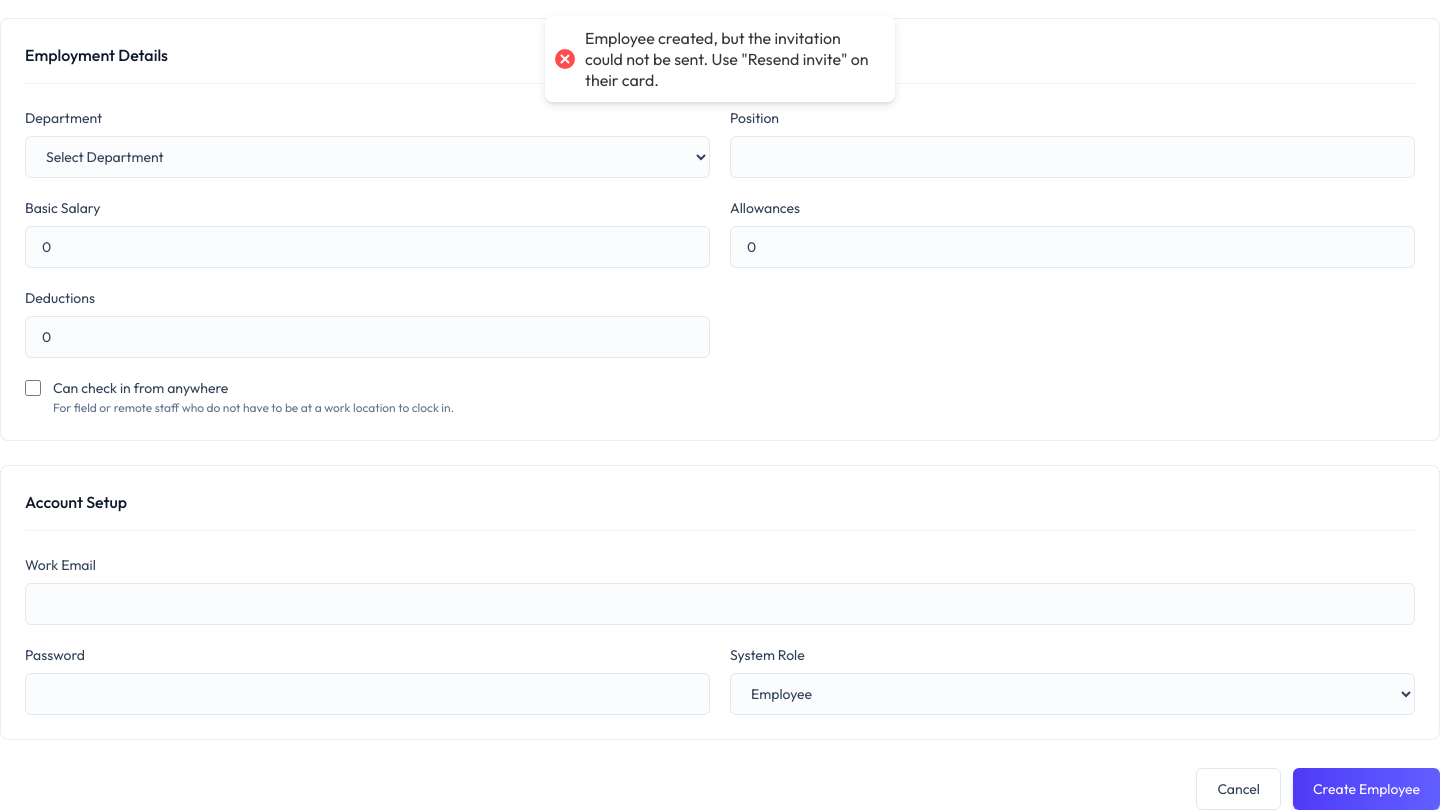
Test: EmployeeForm › asks for a password and hides the invitation option in demo mode
This screenshot has width=1440, height=810.
(page scrolled)
Click the button "Create Employee" at (1366, 789), box [1293,768,1439,809]
(page scrolled)
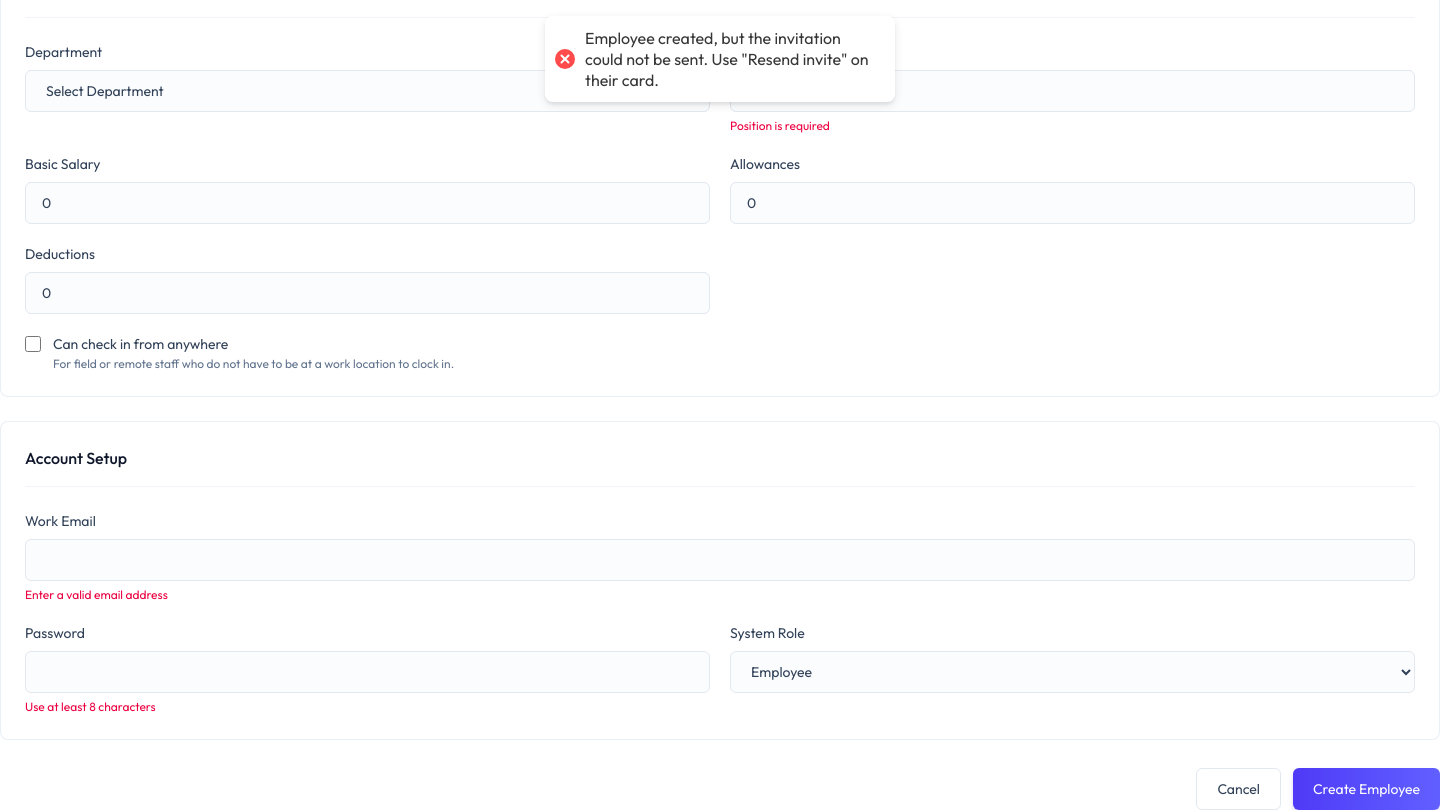
Now the text "Use at least 8 characters" is shown, box [25,699,156,714]
